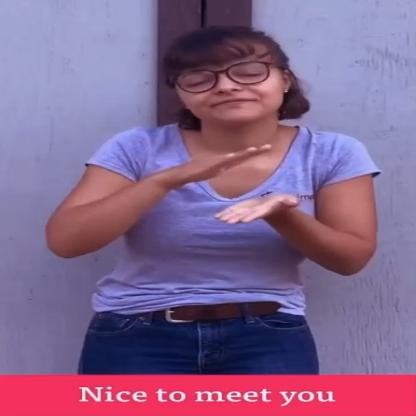NiceToMeetYou: (51, 21, 379, 368)
